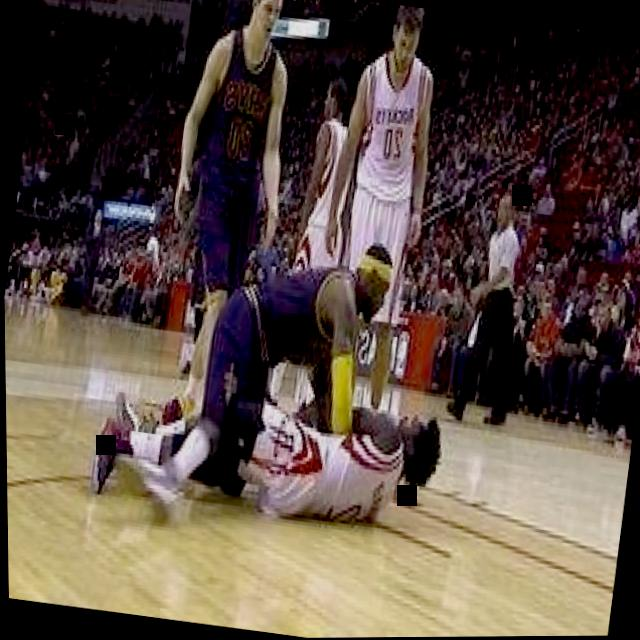Fall-Detected: (175, 209, 416, 426)
